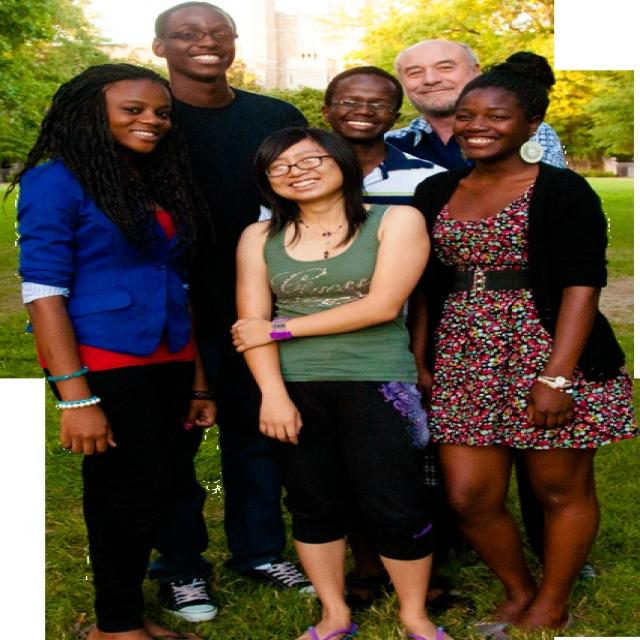body: (394, 50, 638, 639), (109, 0, 331, 624), (8, 61, 222, 640), (229, 125, 455, 640), (378, 38, 568, 173), (312, 65, 453, 214), (583, 469, 613, 550)
